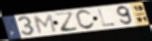3: (17, 15, 36, 37)
9: (116, 6, 134, 26)
C: (75, 9, 96, 31)
L: (97, 9, 117, 28)
M: (33, 13, 58, 34)
Z: (54, 11, 80, 33)
